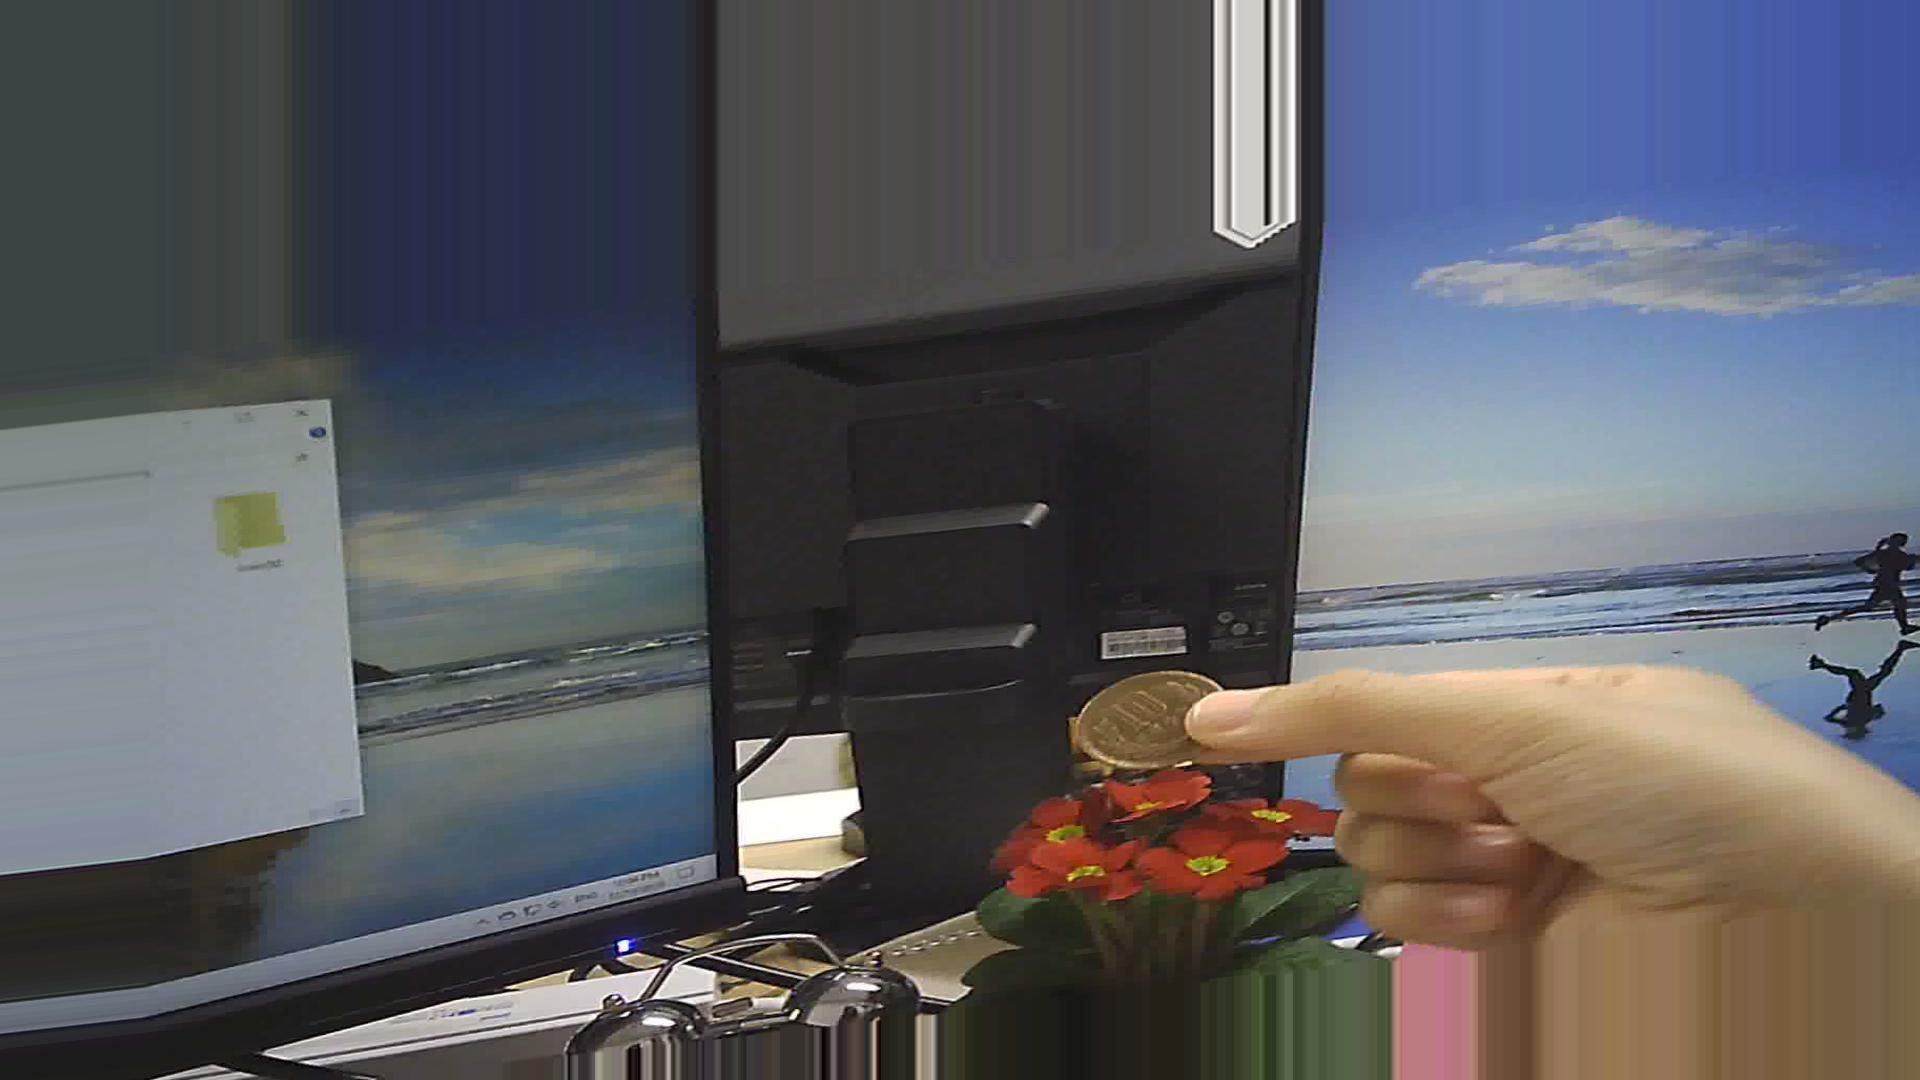10 Yen: (1072, 659, 1226, 760)
